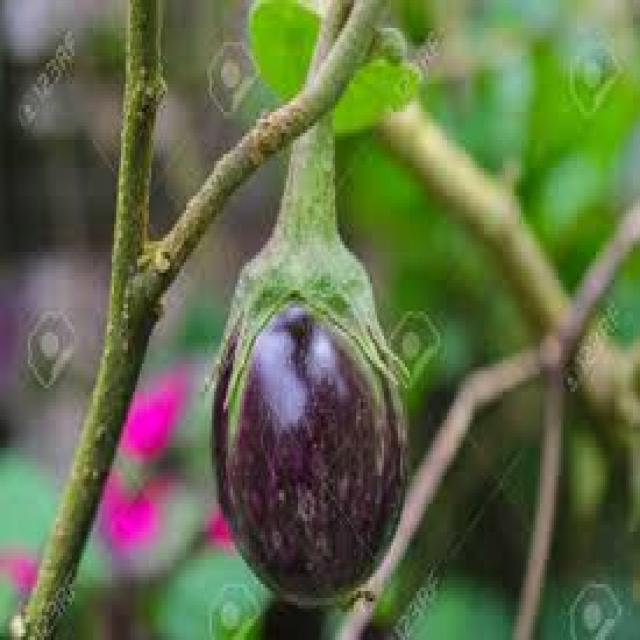Eggplant: (210, 74, 411, 606)
